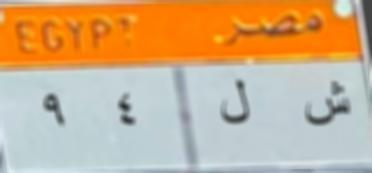4: (110, 76, 150, 136)
9: (25, 86, 74, 130)
laam: (212, 74, 258, 134)
sheen: (303, 78, 356, 132)
